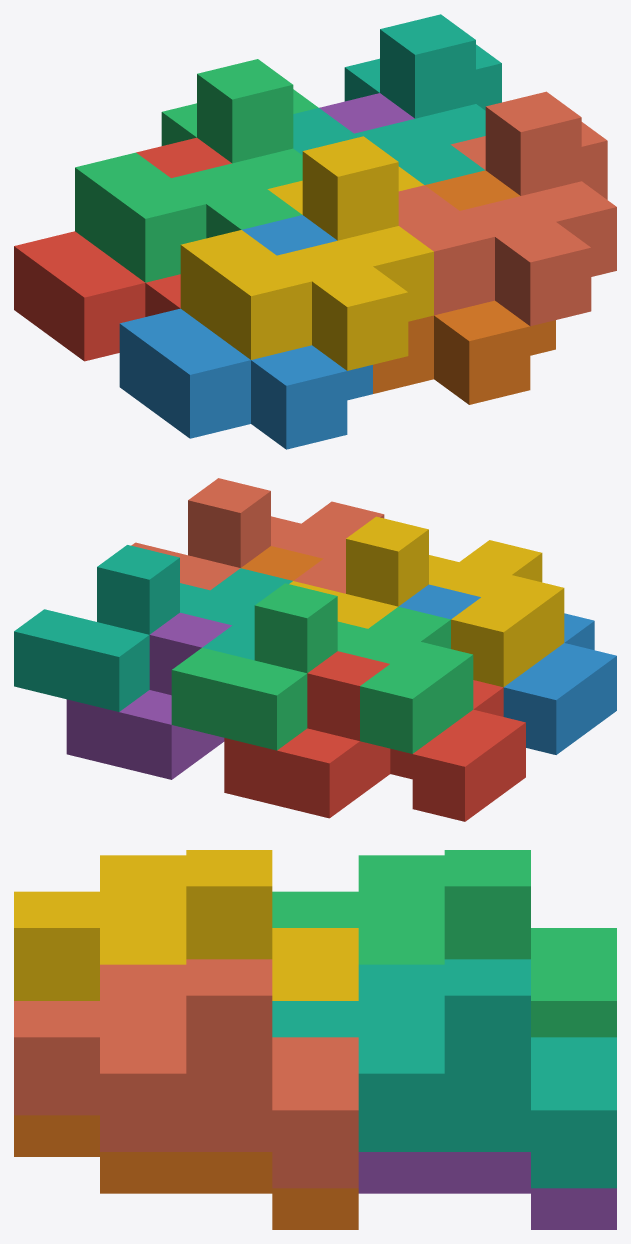
The model's file is tiling.obj.
The picture shows the model from 3 angles, top to bottom: view 1: azimuth 30°, elevation 25°; view 2: azimuth 150°, elevation 25°; view 3: azimuth 270°, elevation 25°; orthographic projection. The views are drawn at different scales.
Visible parts, largest first — view 1: copy_1_domain_4, copy_1_domain_8, copy_1_domain_3, copy_1_domain_2, copy_1_domain_7, copy_1_domain_1, copy_1_domain_6, copy_1_domain_5; view 2: copy_1_domain_3, copy_1_domain_1, copy_1_domain_7, copy_1_domain_4, copy_1_domain_8, copy_1_domain_5, copy_1_domain_2, copy_1_domain_6; view 3: copy_1_domain_8, copy_1_domain_7, copy_1_domain_4, copy_1_domain_3, copy_1_domain_6, copy_1_domain_5.
Part boxes in pixels (box(x1,y1,x2,y2)): copy_1_domain_4: box(180, 136, 433, 370); copy_1_domain_8: box(398, 91, 616, 326); copy_1_domain_3: box(75, 59, 318, 282); copy_1_domain_2: box(119, 215, 372, 449); copy_1_domain_7: box(293, 14, 501, 184); copy_1_domain_1: box(14, 137, 231, 361); copy_1_domain_6: box(373, 170, 555, 404); copy_1_domain_5: box(319, 93, 414, 133); copy_1_domain_3: box(171, 583, 473, 753); copy_1_domain_1: box(224, 651, 525, 821); copy_1_domain_7: box(14, 545, 292, 711); copy_1_domain_4: box(289, 516, 564, 687); copy_1_domain_8: box(131, 478, 384, 593); copy_1_domain_5: box(66, 612, 231, 779); copy_1_domain_2: box(399, 584, 616, 754); copy_1_domain_6: box(241, 546, 323, 580); copy_1_domain_8: box(14, 959, 358, 1188); copy_1_domain_7: box(272, 959, 616, 1188); copy_1_domain_4: box(14, 850, 358, 1000); copy_1_domain_3: box(272, 850, 616, 1037); copy_1_domain_6: box(14, 1115, 358, 1229); copy_1_domain_5: box(358, 1152, 616, 1229).
Size of the model in its own units: 8 by 3 by 7.
